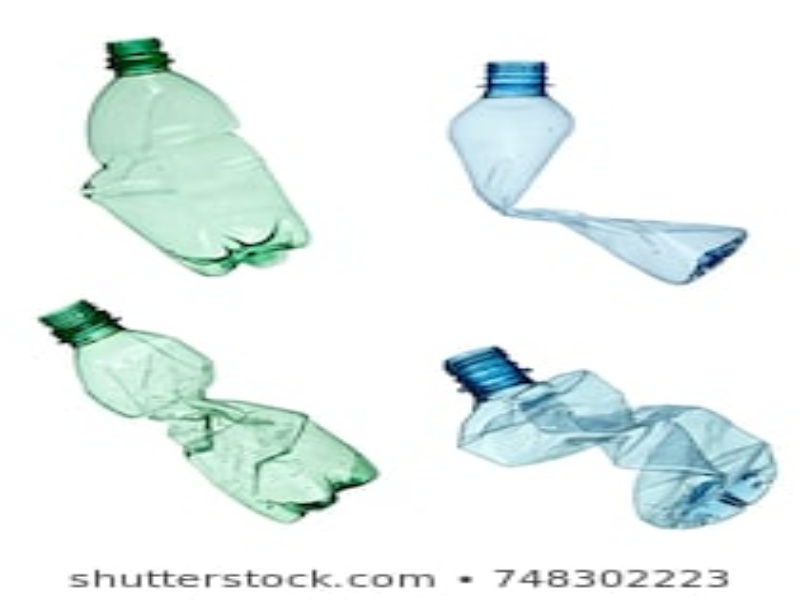plastic-bottle: (35, 295, 381, 522), (449, 54, 765, 284), (431, 342, 785, 533), (71, 29, 330, 273)
